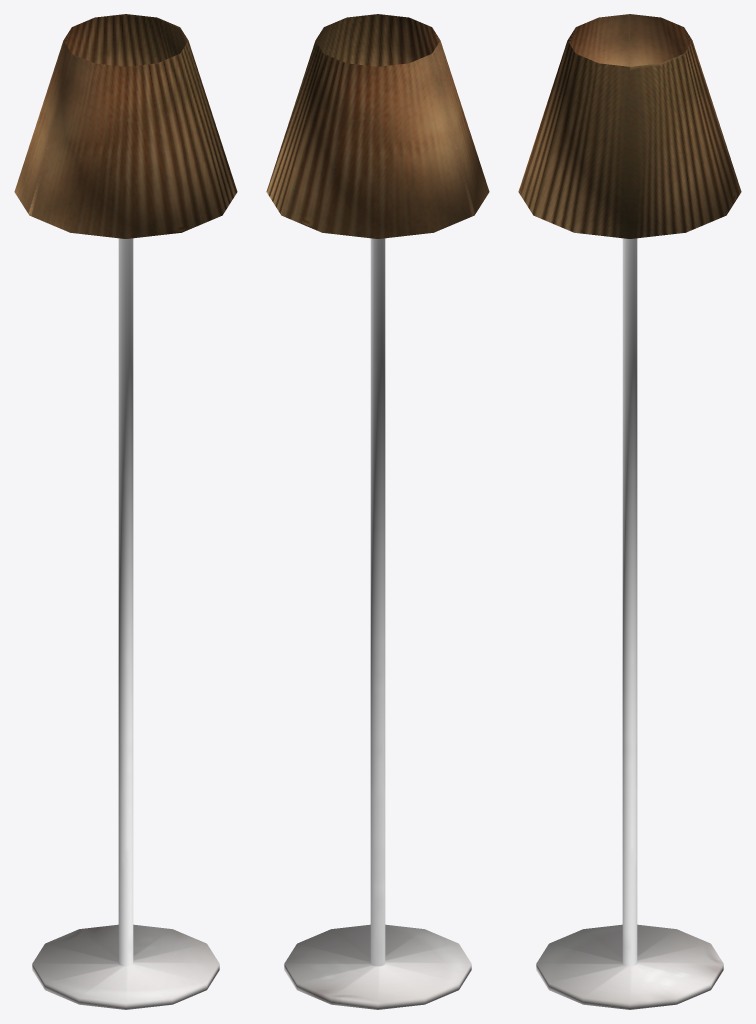
File: lamp.FBX
3 renders of one model, left to right at view 1: azimuth 30°, elevation 25°; view 2: azimuth 150°, elevation 25°; view 3: azimuth 270°, elevation 25°, orthographic.
Visible parts, largest first — view 1: lamp; view 2: lamp; view 3: lamp.
Boxes of the visible parts, x1,y1,x2,y2 form: lamp: [14, 14, 237, 1009]; lamp: [266, 14, 489, 1009]; lamp: [518, 14, 741, 1009].
Bounding box in the file's own units: 19.63 × 90.27 × 19.63.
